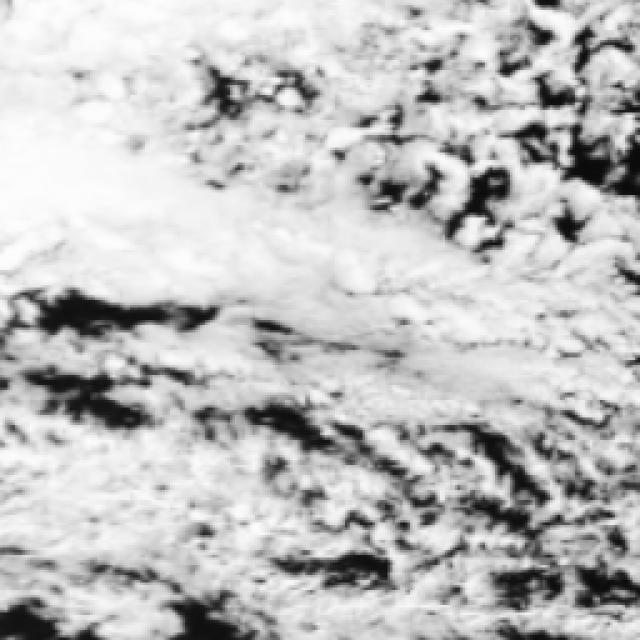CB: (0, 50, 135, 237), (0, 0, 187, 102), (86, 199, 324, 270)
